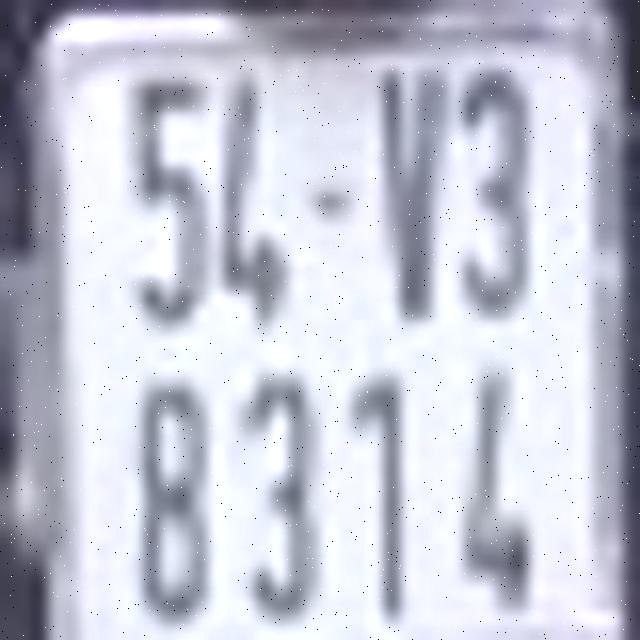1: (349, 374, 412, 619)
3: (241, 372, 319, 618), (459, 68, 534, 321)
4: (460, 367, 539, 617), (220, 79, 288, 329)
5: (132, 80, 208, 325)
8: (139, 384, 211, 619)
V: (375, 63, 452, 322)
